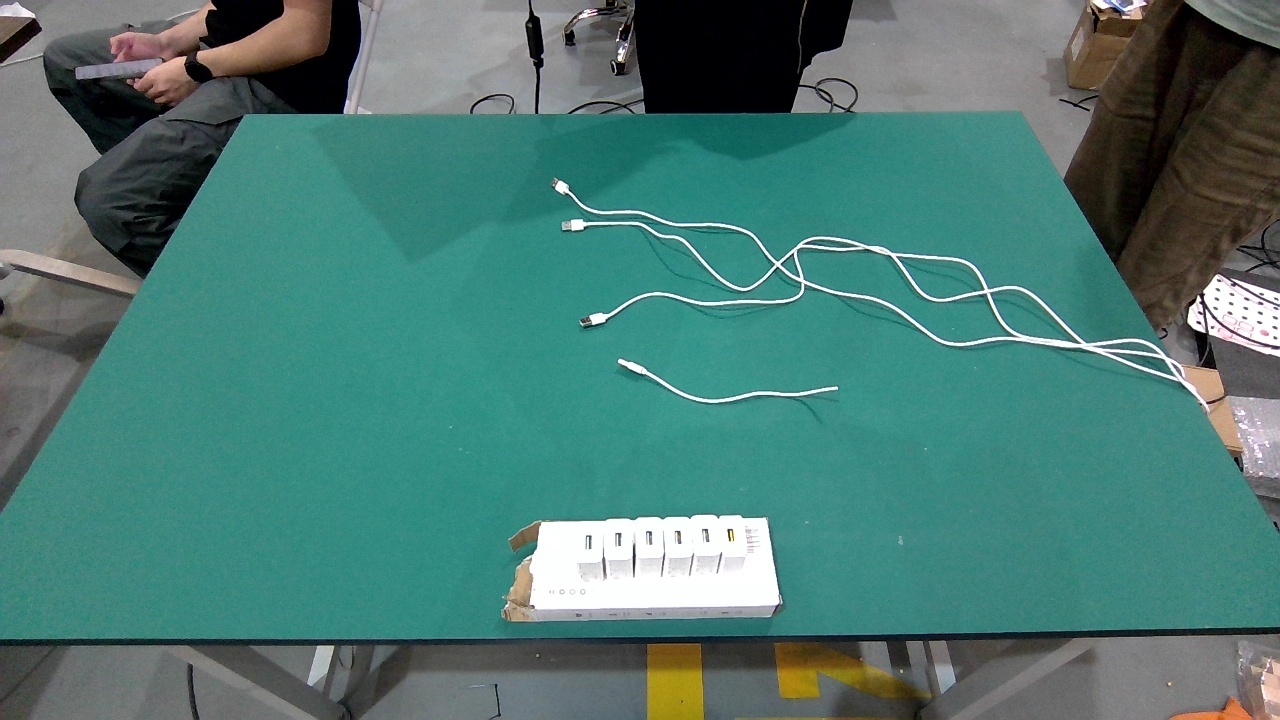usb_a_port: (699, 526, 713, 546), (583, 533, 596, 553), (611, 530, 624, 550), (671, 529, 685, 547), (724, 527, 737, 545), (643, 530, 655, 548)
